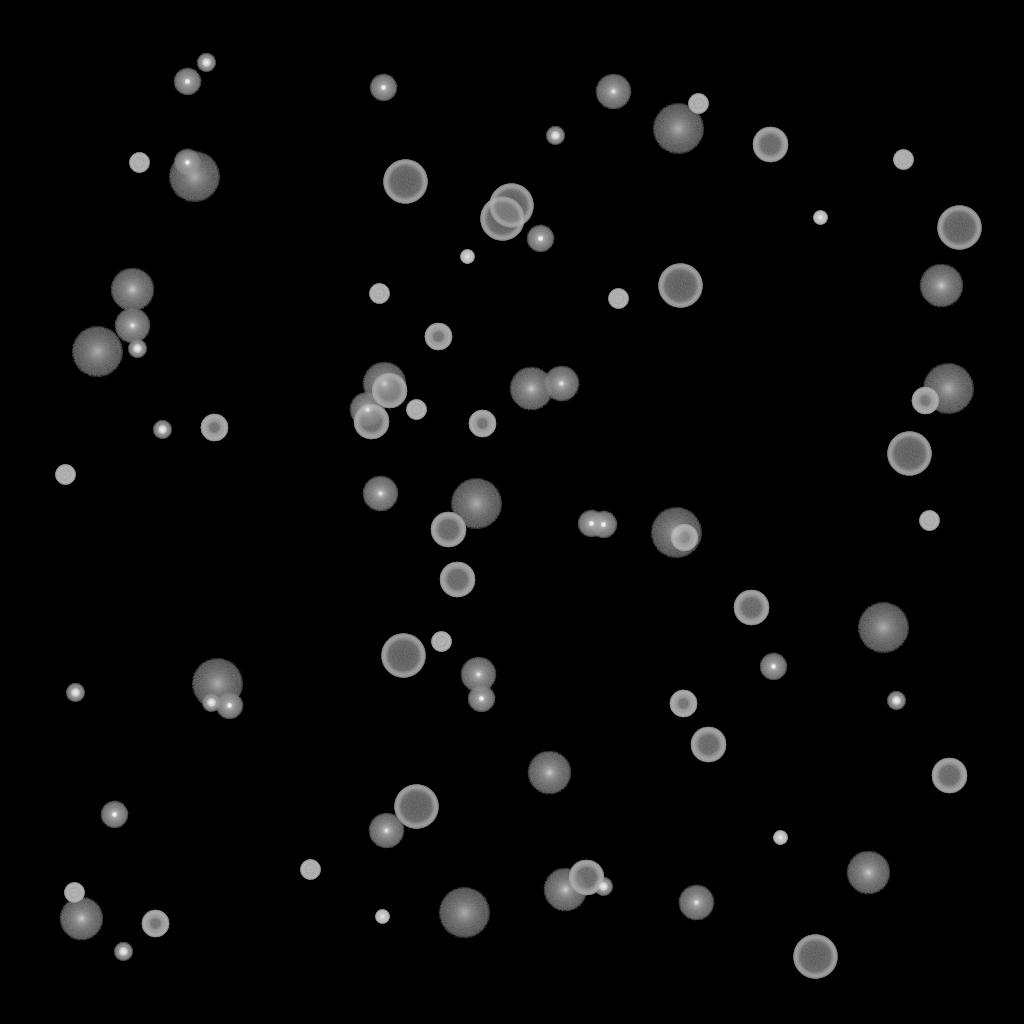depth:-10: (215, 692, 243, 720), (173, 149, 201, 177), (759, 653, 787, 681), (467, 685, 495, 713), (577, 510, 605, 538), (100, 801, 128, 829), (526, 225, 554, 253), (173, 68, 201, 96), (369, 74, 397, 102), (589, 511, 617, 539)
depth:-20: (887, 692, 905, 710), (546, 127, 564, 145), (594, 878, 612, 896), (153, 421, 171, 439), (128, 340, 146, 358), (197, 54, 215, 72), (202, 694, 220, 712), (66, 684, 84, 702), (114, 943, 132, 961)
depth:-30: (460, 250, 474, 264), (813, 211, 827, 225), (773, 831, 787, 845), (375, 910, 389, 924)
depth:-40: (55, 465, 75, 485), (406, 400, 426, 420), (129, 153, 149, 173), (369, 284, 389, 304), (608, 289, 628, 309), (300, 860, 320, 880), (893, 150, 913, 170), (64, 883, 84, 903), (919, 511, 939, 531), (688, 94, 708, 114), (431, 632, 451, 652)
depth:-50: (670, 524, 698, 552), (424, 323, 452, 351), (468, 410, 496, 438), (669, 690, 697, 718), (200, 414, 228, 442), (141, 910, 169, 938), (911, 387, 939, 415)
depth:-60: (371, 373, 407, 409), (353, 404, 389, 440), (439, 562, 475, 598), (568, 860, 604, 896), (931, 758, 967, 794), (690, 727, 726, 763), (733, 590, 769, 626), (752, 127, 788, 163), (430, 512, 466, 548)
depth:-70: (658, 264, 702, 308), (937, 206, 981, 250), (793, 935, 837, 979), (383, 160, 427, 204), (381, 634, 425, 678), (480, 197, 524, 241), (394, 785, 438, 829), (489, 184, 533, 228), (887, 432, 931, 476)
depth:0: (362, 476, 398, 512), (460, 657, 496, 693), (349, 392, 385, 428), (678, 885, 714, 921), (114, 308, 150, 344), (595, 74, 631, 110), (368, 813, 404, 849), (543, 366, 579, 402)
depth:10: (59, 897, 103, 941), (919, 264, 963, 308), (846, 851, 890, 895), (527, 751, 571, 795), (362, 362, 406, 406), (509, 367, 553, 411), (110, 268, 154, 312), (543, 868, 587, 912)
depth:20: (652, 104, 704, 154), (168, 152, 220, 202), (450, 479, 502, 529), (857, 603, 909, 653), (438, 888, 490, 938), (191, 659, 243, 709), (922, 364, 974, 414), (71, 327, 123, 377), (650, 508, 702, 558)
